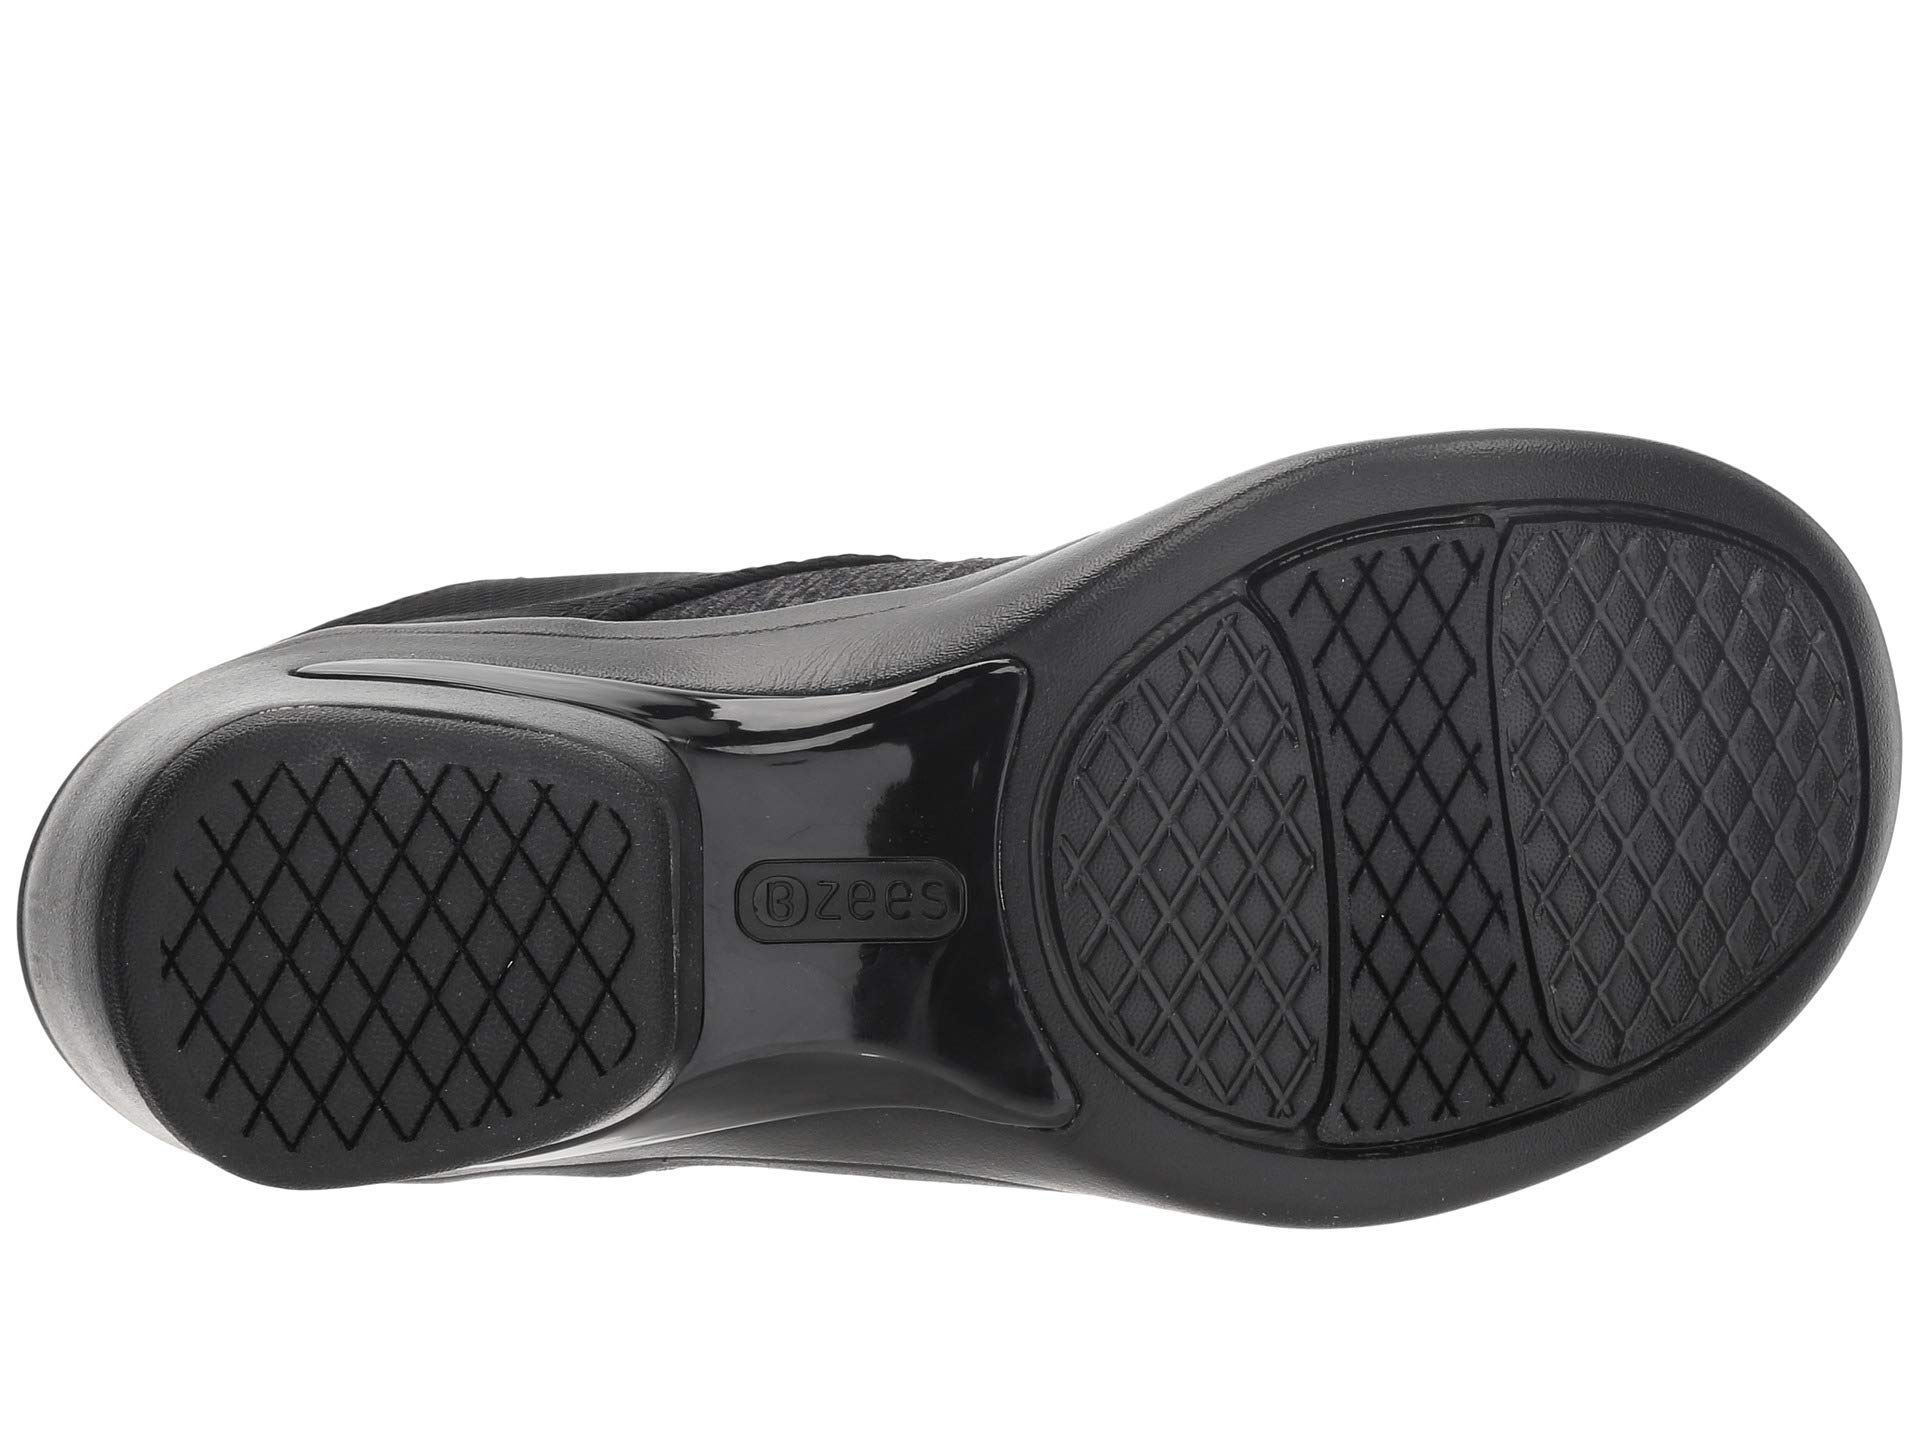circle: (723, 812, 980, 976)
quad: (1519, 575, 1798, 889), (723, 812, 980, 976)
text: (723, 812, 980, 976)
